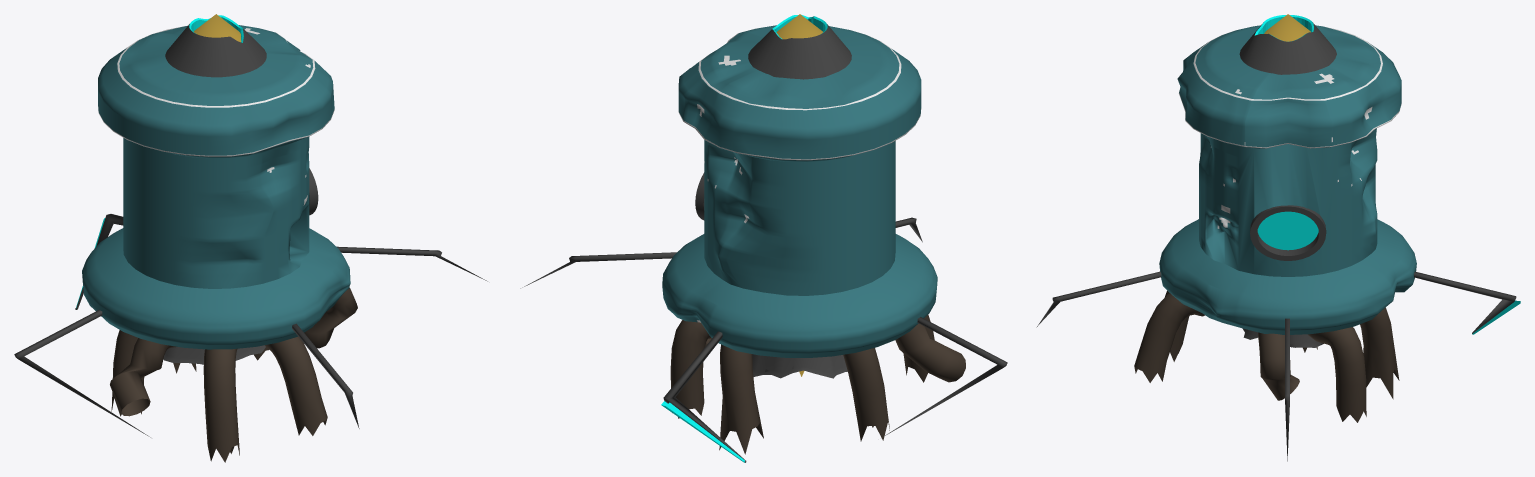
The model's file is KURAGE spaceship3.fbx.
3 renders of one model, left to right at view 1: azimuth 30°, elevation 25°; view 2: azimuth 150°, elevation 25°; view 3: azimuth 270°, elevation 25°, orthographic. The views are drawn at different scales.
Parts seen in each view (by area): view 1: Cylinder.004, BézierCurve.001, Cylinder.005, Cylinder.006; view 2: Cylinder.004, BézierCurve.001, Cylinder.005, Cylinder.006; view 3: Cylinder.004, BézierCurve.001, Cylinder.005, Cylinder.006.
Boxes of the visible parts, x1=… form: Cylinder.004: x1=14, y1=25, x2=487, y2=437; BézierCurve.001: x1=110, y1=287, x2=357, y2=462; Cylinder.005: x1=165, y1=14, x2=266, y2=77; Cylinder.006: x1=163, y1=345, x2=265, y2=364; Cylinder.004: x1=520, y1=25, x2=1007, y2=462; BézierCurve.001: x1=670, y1=315, x2=965, y2=454; Cylinder.005: x1=748, y1=14, x2=851, y2=79; Cylinder.006: x1=752, y1=354, x2=847, y2=378; Cylinder.004: x1=1036, y1=25, x2=1520, y2=461; BézierCurve.001: x1=1134, y1=290, x2=1399, y2=422; Cylinder.005: x1=1239, y1=14, x2=1336, y2=74; Cylinder.006: x1=1242, y1=328, x2=1323, y2=347.
Size of the model in its own units: 588 by 478 by 543.
